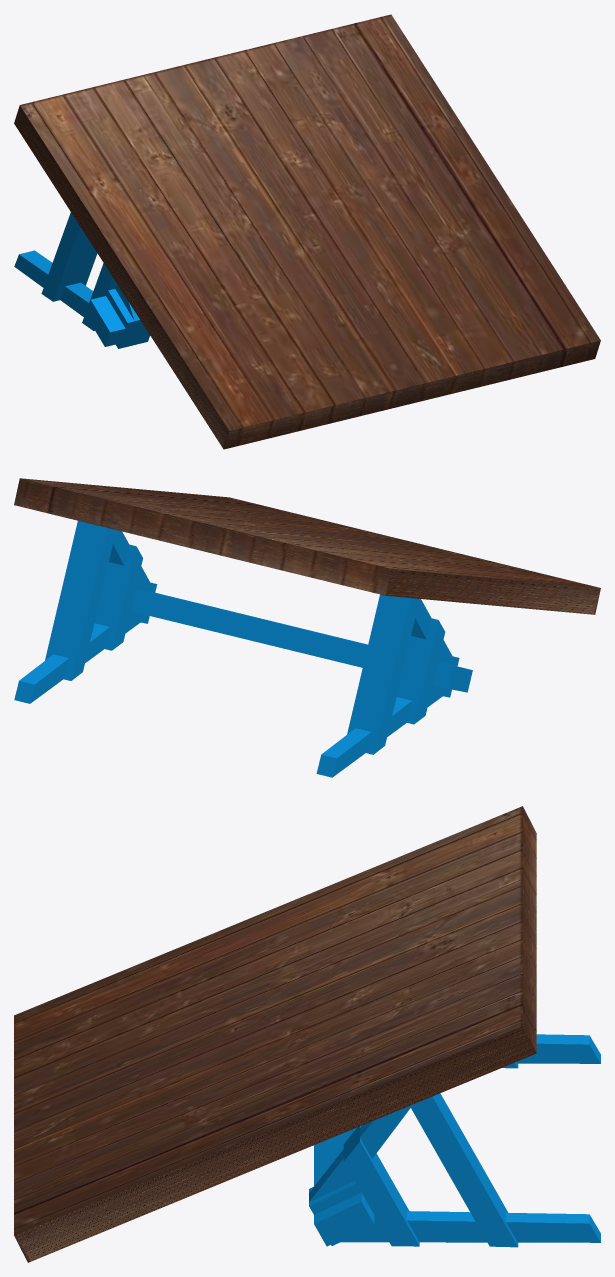
File: ramp.fbx
3 renders of one model, top to bottom at view 1: azimuth 30°, elevation 25°; view 2: azimuth 150°, elevation 25°; view 3: azimuth 270°, elevation 25°, orthographic. The views are drawn at different scales.
Parts seen in each view (by area): view 1: ramp; view 2: ramp; view 3: ramp.
Boxes of the visible parts, left/top/right/bottom form: ramp: left=14, top=14, right=600, bottom=449; ramp: left=14, top=478, right=600, bottom=777; ramp: left=14, top=806, right=600, bottom=1262.
Bounding box in the file's own units: 27.39 × 13.75 × 30.89.
